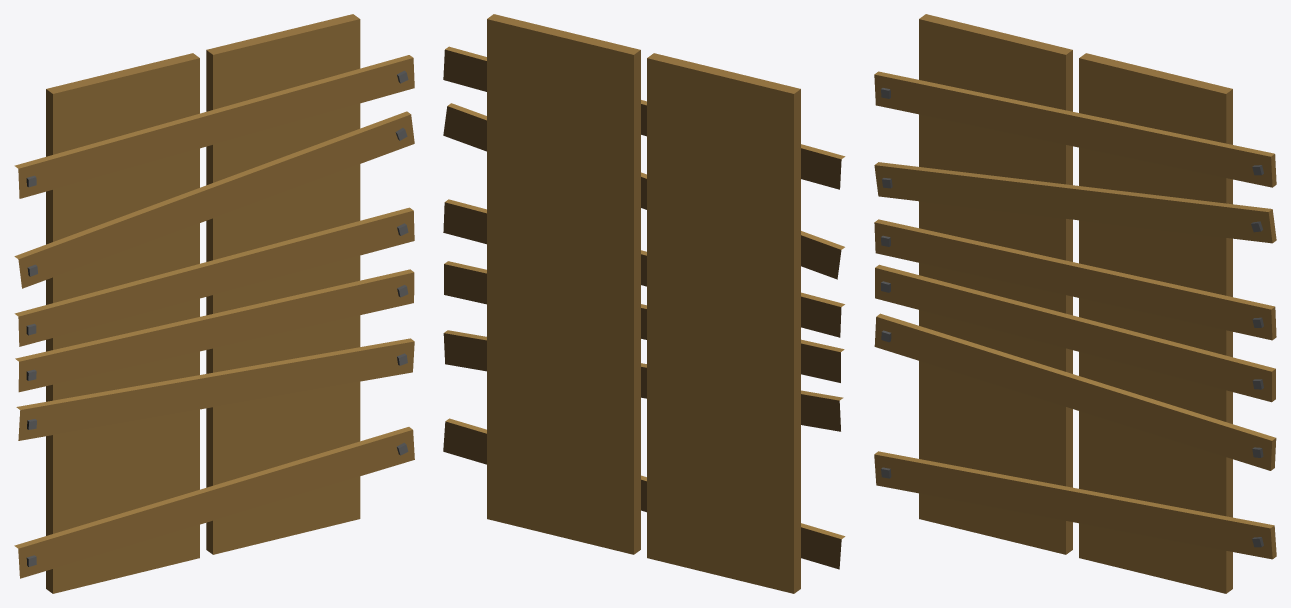
File: woodwall.gltf
The picture shows the model from 3 angles, left to right: view 1: azimuth 30°, elevation 25°; view 2: azimuth 150°, elevation 25°; view 3: azimuth 330°, elevation 25°; orthographic projection.
Parts seen in each view (by area): view 1: Woodwallbg, Woodwallbg2, Planche2, Planche6, Planche1, Planche3, Planche4, Planche5; view 2: Woodwallbg2, Woodwallbg, Planche1, Planche3, Planche6, Planche4, Planche2, Planche5; view 3: Woodwallbg2, Woodwallbg, Planche5, Planche4, Planche3, Planche1, Planche6, Planche2.
Boxes of the visible parts, <box> form: Woodwallbg: <box>206,14,360,554</box>; Woodwallbg2: <box>46,53,199,593</box>; Planche2: <box>14,111,414,288</box>; Planche6: <box>14,427,414,578</box>; Planche1: <box>14,55,414,198</box>; Planche3: <box>14,207,414,346</box>; Planche4: <box>15,269,414,392</box>; Planche5: <box>16,338,414,440</box>; Woodwallbg2: <box>647,53,800,593</box>; Woodwallbg: <box>487,14,640,554</box>; Planche1: <box>443,46,845,189</box>; Planche3: <box>443,199,844,337</box>; Planche6: <box>443,418,845,569</box>; Planche4: <box>444,261,844,382</box>; Planche2: <box>443,103,844,279</box>; Planche5: <box>443,330,843,431</box>; Woodwallbg2: <box>919,14,1072,554</box>; Woodwallbg: <box>1079,53,1232,593</box>; Planche5: <box>874,313,1276,470</box>; Planche4: <box>875,264,1275,402</box>; Planche3: <box>874,219,1276,340</box>; Planche1: <box>874,71,1276,187</box>; Planche6: <box>874,451,1276,559</box>; Planche2: <box>874,162,1276,243</box>.
Size of the model in its own units: 8.48 by 10.18 by 0.5074.
Materials: 1 (1 with a texture image).
